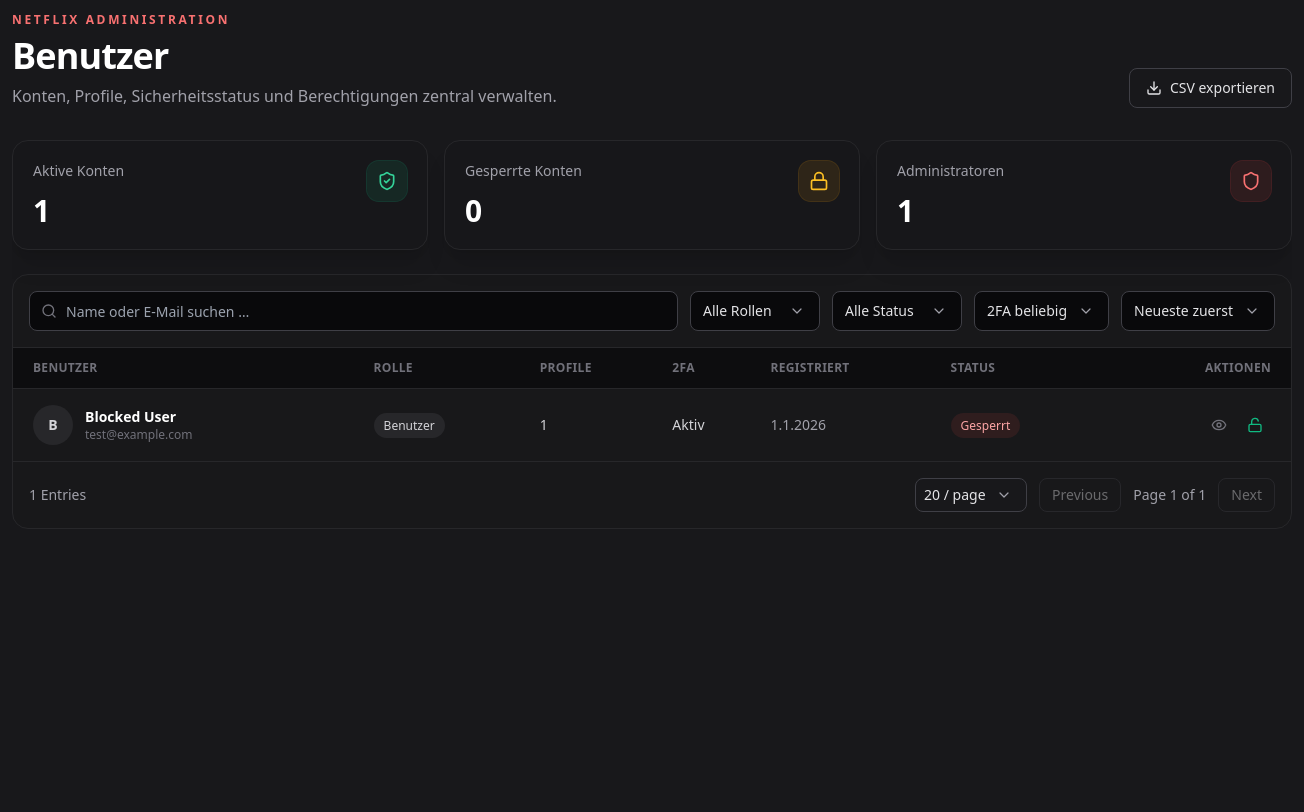
Test: unblocks an existing blocked user
Click the button named "Blocked User entsperren" at (1255, 425), box [1239,409,1271,441]
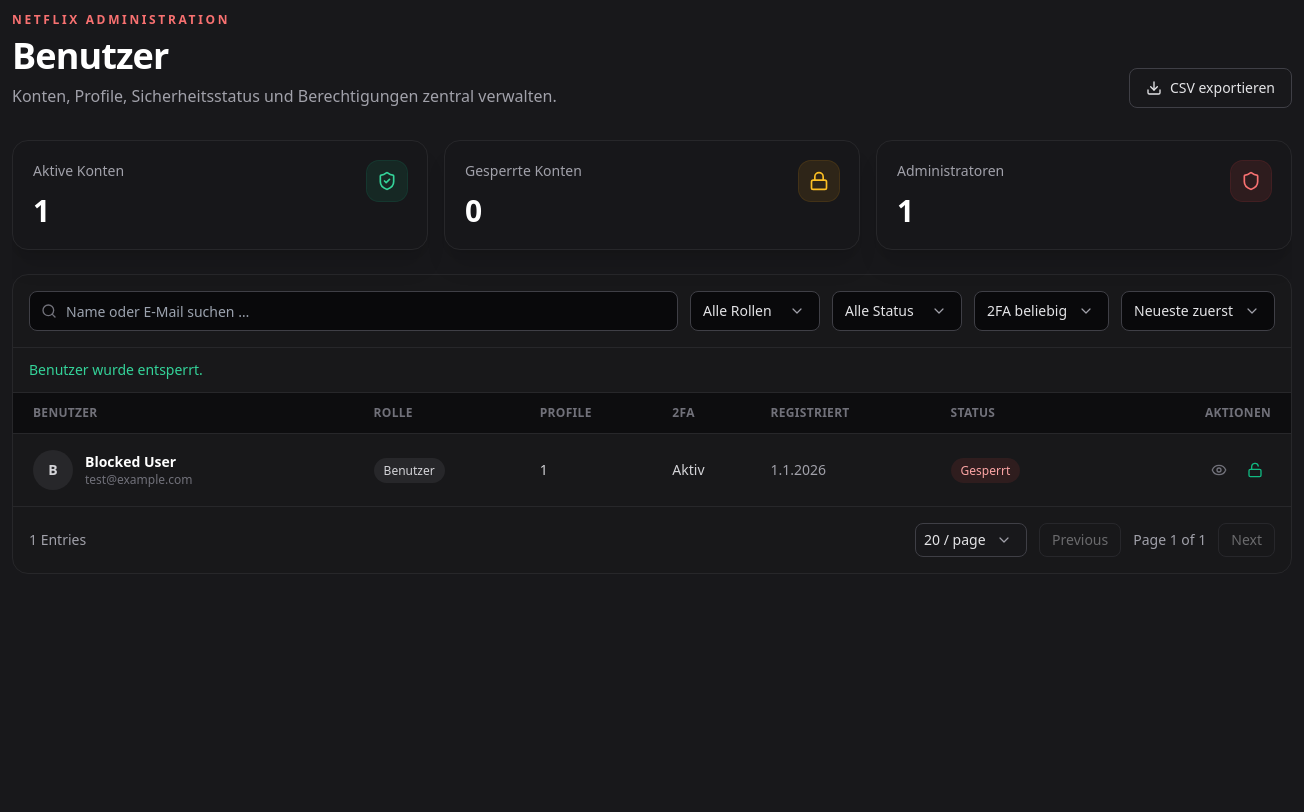
Check: the text "Benutzer wurde entsperrt." is shown, box [13,348,1291,393]
